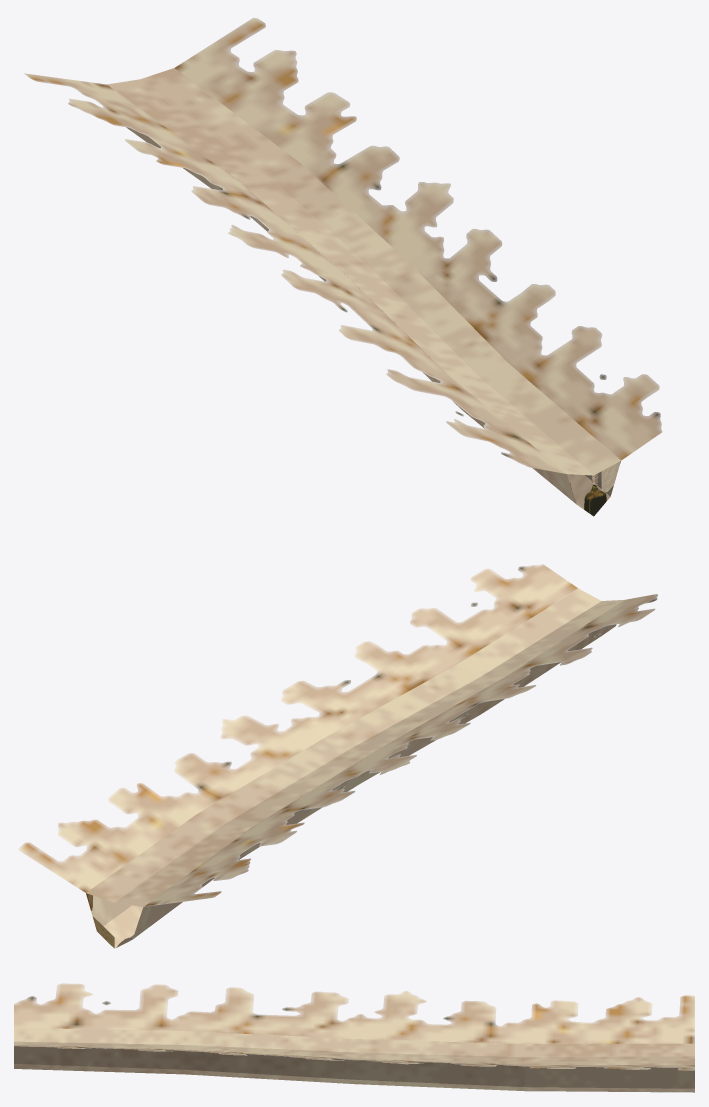
Rendered from SM_Dungeon_Bones_Spine.fbx.
3 views of the same model, one above another, from view 1: azimuth 30°, elevation 25°; view 2: azimuth 150°, elevation 25°; view 3: azimuth 270°, elevation 25° (orthographic). The views are drawn at different scales.
Visible parts, largest first — view 1: SM_Dungeon_Bones_Spine; view 2: SM_Dungeon_Bones_Spine; view 3: SM_Dungeon_Bones_Spine.
Part boxes in pixels (x1,y1,x2,y2): SM_Dungeon_Bones_Spine: (24, 17, 662, 516); SM_Dungeon_Bones_Spine: (18, 564, 657, 948); SM_Dungeon_Bones_Spine: (14, 983, 694, 1092).
Bounding box in the file's own units: 24.66 × 7.58 × 76.3.
